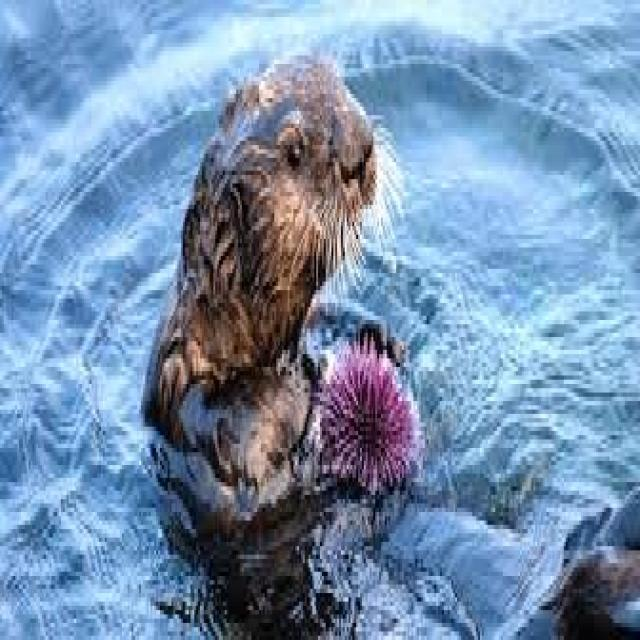Otter: (165, 40, 382, 512)
